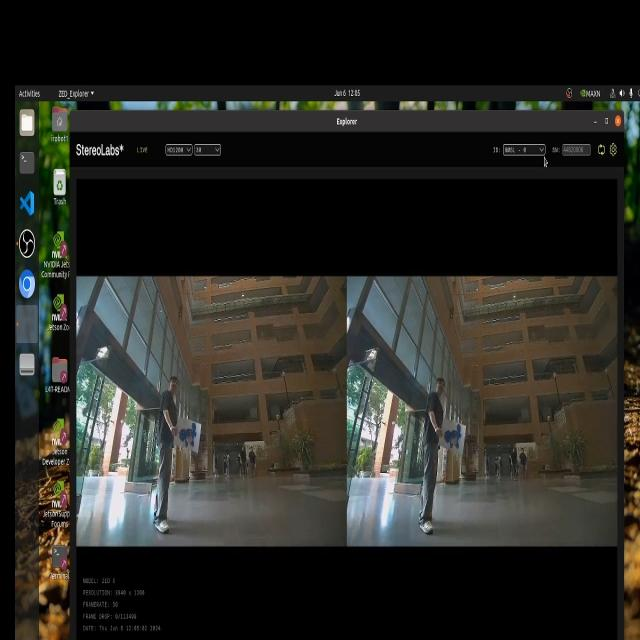blue: (176, 421, 198, 456), (442, 418, 466, 450)
